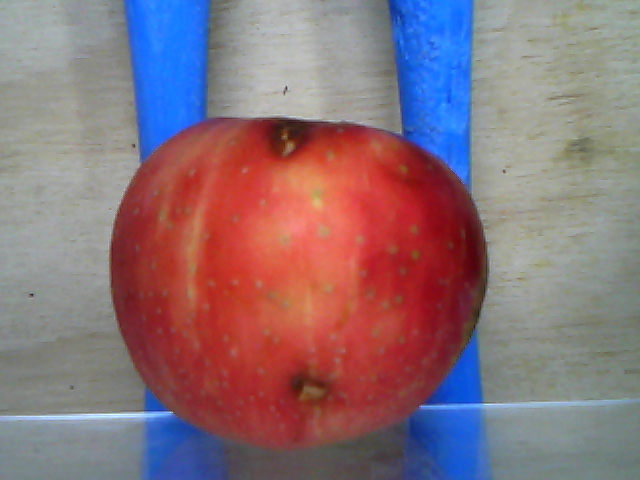puncture: (293, 376, 330, 402)
